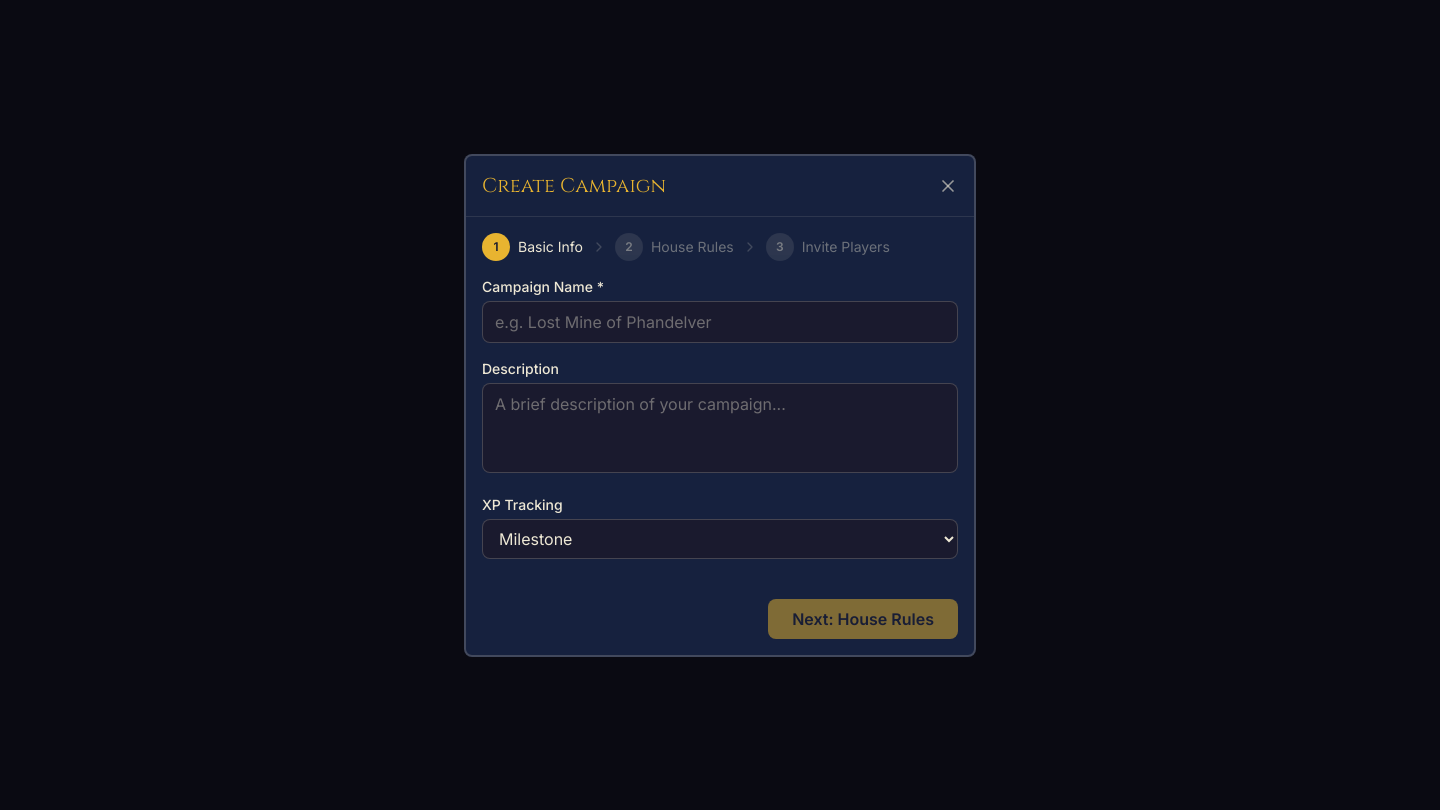
CreateCampaignModal › advances to House Rules step when name is filled and Next is clicked
Type "Test Campaign" into the field labelled "Campaign Name *".
click(720, 322); type("Test Campaign")  # box [482, 300, 958, 342]
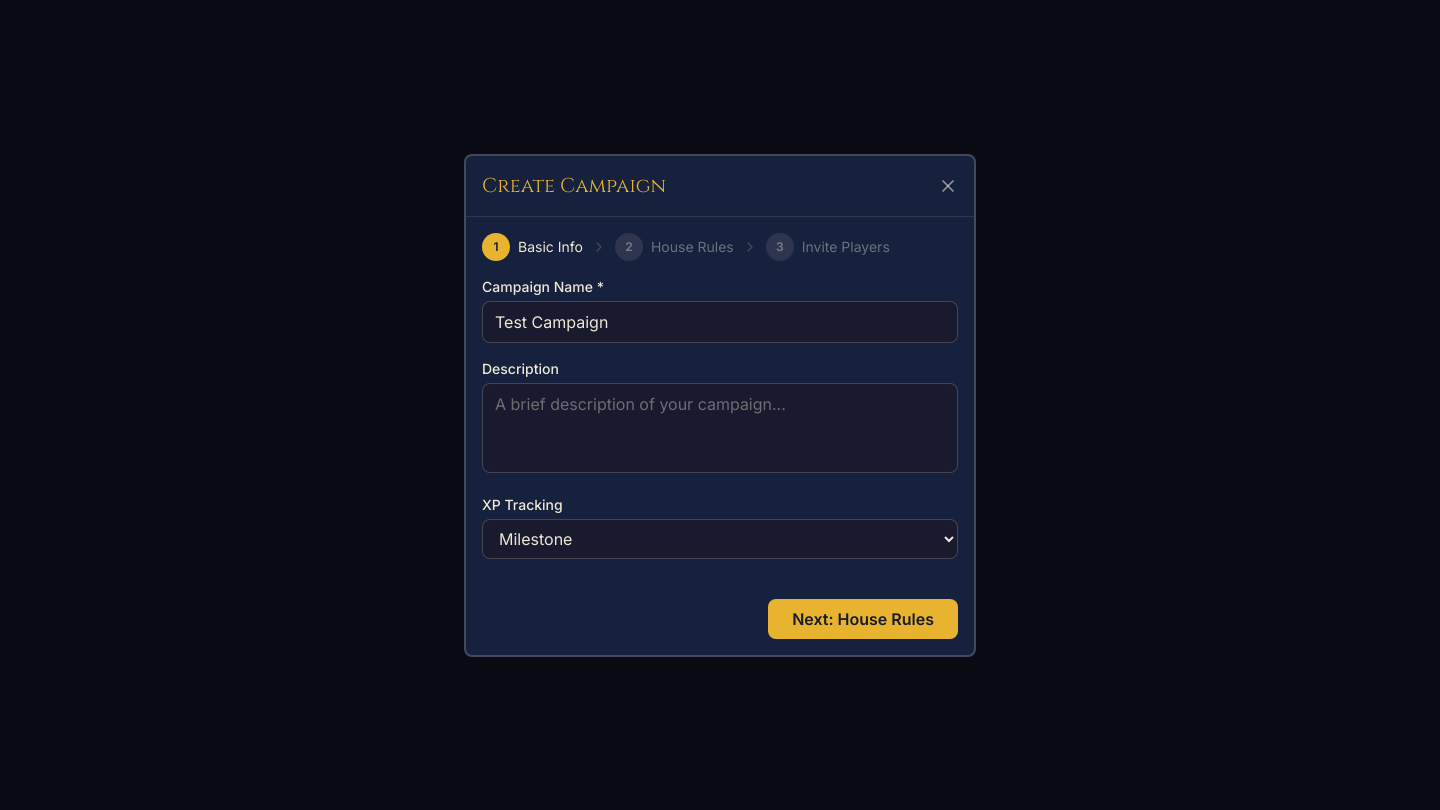
Click the button "Next: House Rules".
click(863, 618)  # box [768, 598, 958, 638]
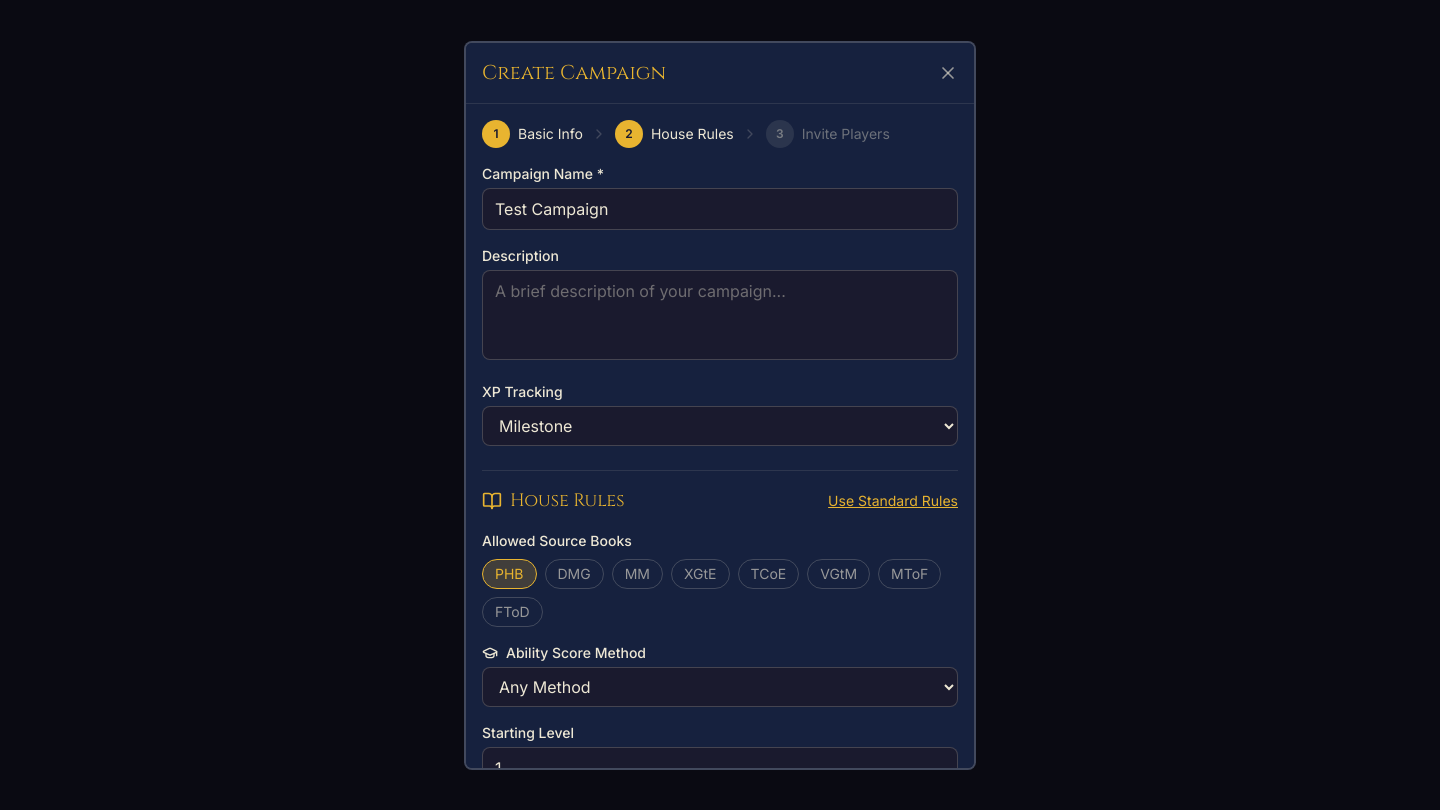
Check: the text "Allowed Source Books" is shown, box [482, 532, 632, 548]
